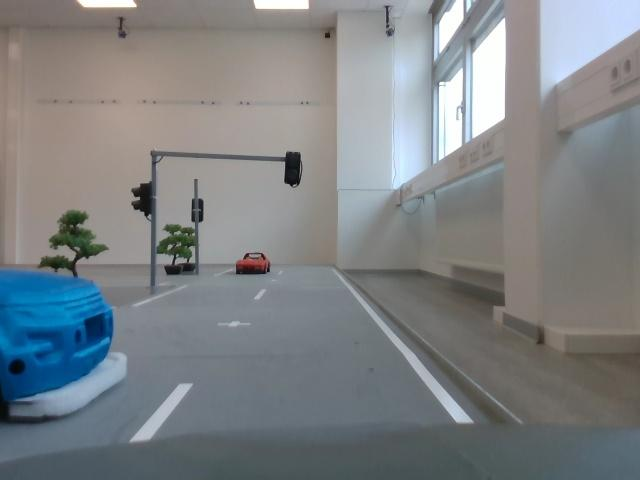car: (2, 269, 133, 429), (234, 252, 273, 275)
potted plant: (42, 207, 112, 280), (156, 224, 189, 279), (176, 227, 200, 276)
traffic light: (131, 179, 159, 224), (283, 151, 307, 192), (192, 197, 205, 225)
